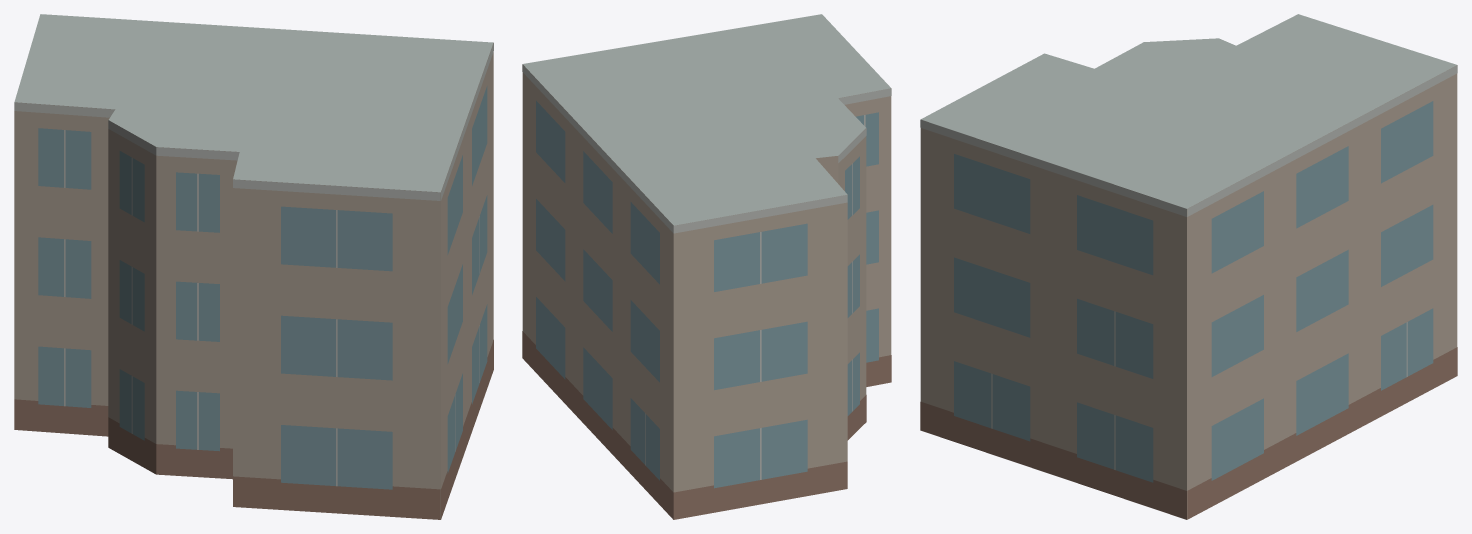
File: survey-upis-32687347.glb
The picture shows the model from 3 angles, left to right: view 1: azimuth 30°, elevation 25°; view 2: azimuth 150°, elevation 25°; view 3: azimuth 270°, elevation 25°; orthographic projection. The views are drawn at different scales.
Parts seen in each view (by area): view 1: survey-upis-32687347.tmp; view 2: survey-upis-32687347.tmp; view 3: survey-upis-32687347.tmp.
Boxes of the visible parts, x1,y1,x2,y2 form: survey-upis-32687347.tmp: (14, 14, 493, 519); survey-upis-32687347.tmp: (522, 14, 891, 519); survey-upis-32687347.tmp: (920, 14, 1457, 519).
Size of the model in its own units: 12.31 by 9.15 by 14.33.
